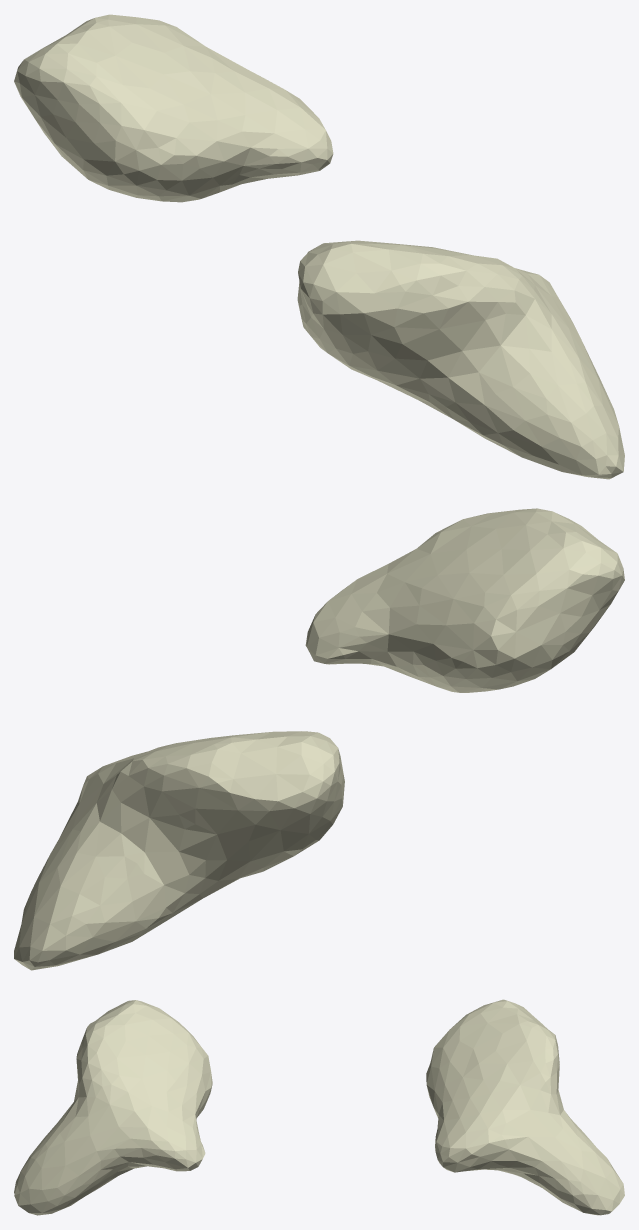
The picture shows the model from 3 angles, top to bottom: view 1: azimuth 30°, elevation 25°; view 2: azimuth 150°, elevation 25°; view 3: azimuth 270°, elevation 25°; orthographic projection. The views are drawn at different scales.
Parts seen in each view (by area): view 1: 989.obj; view 2: 989.obj; view 3: 989.obj.
Boxes of the visible parts, <box> form: 989.obj: <box>14,14,624,479</box>; 989.obj: <box>14,508,624,970</box>; 989.obj: <box>14,999,624,1215</box>.
Size of the model in its own units: 1034 by 819 by 3005.
